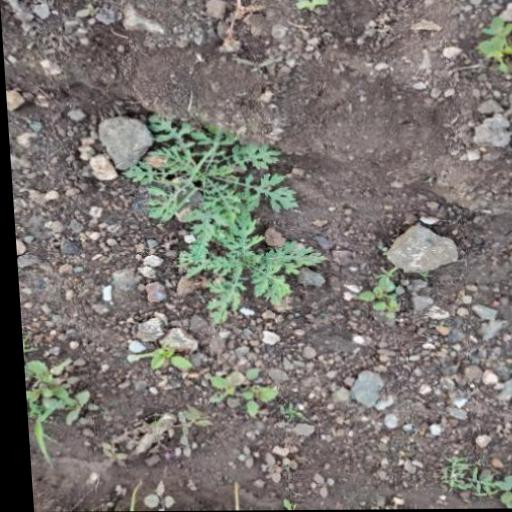weed: (115, 120, 325, 334), (18, 334, 104, 428), (350, 250, 414, 333)
